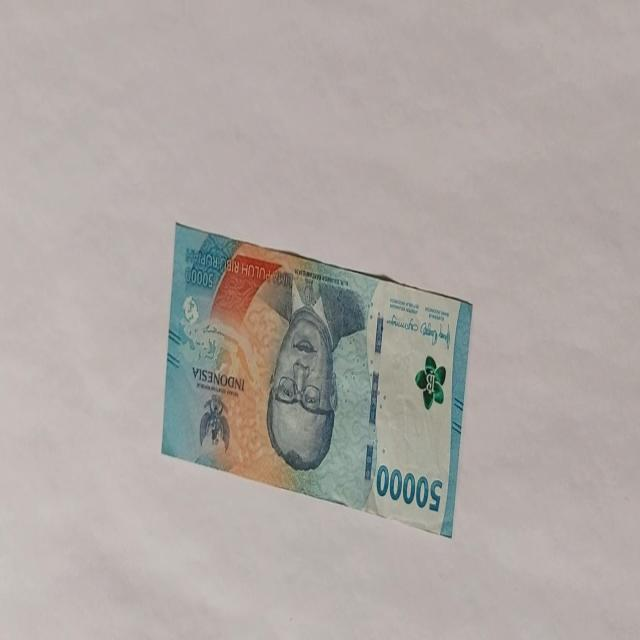lima puluh ribu rupiah: (160, 220, 473, 538)
